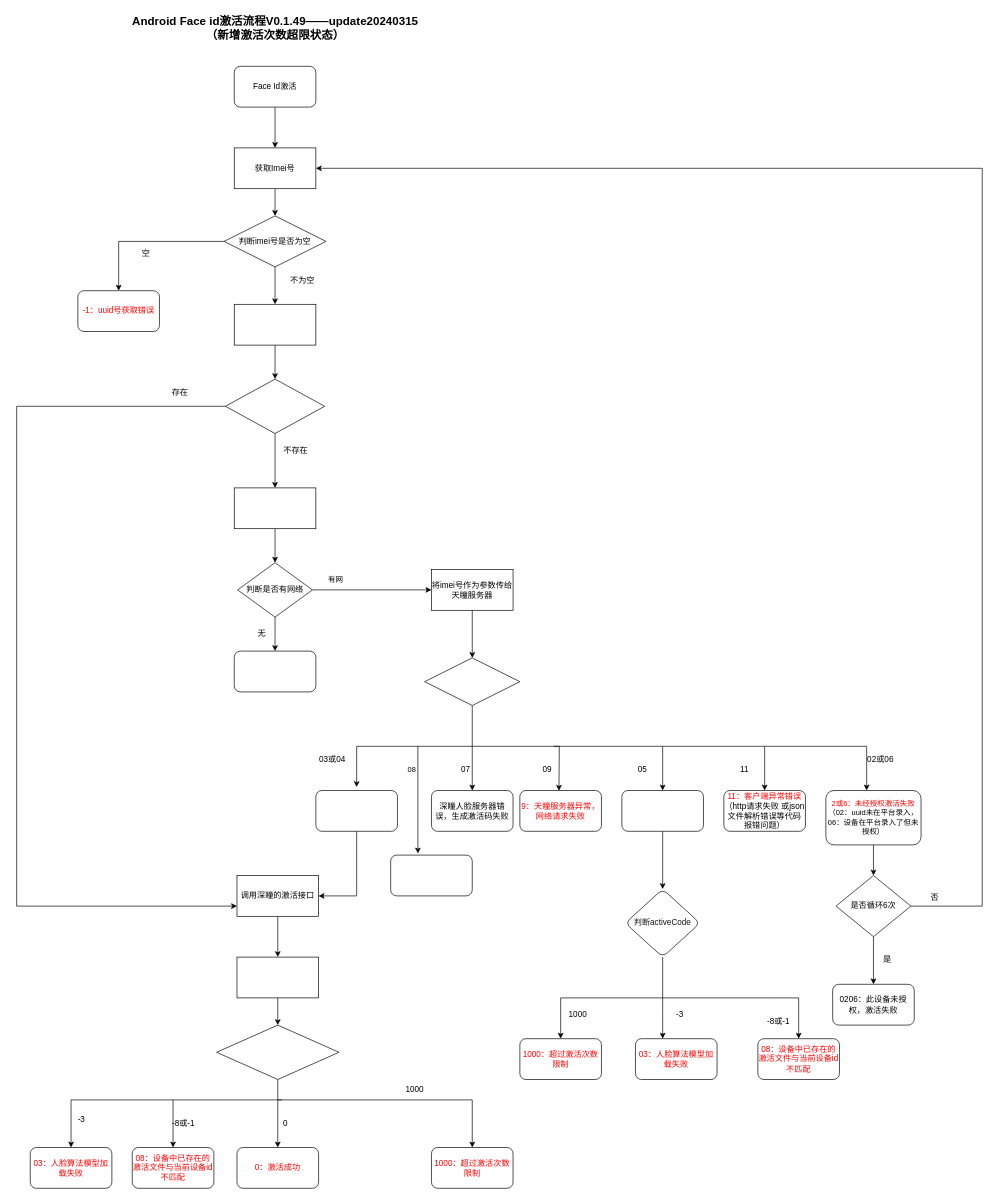
This 1000x1200 diagram has some shape labels left out. The centre of each missing label's shape, as x and y in pixels:
"05：深瞳接口激活失败，获取activeCode状态" belongs at point 662,810.
"05：网络状态不可用" belongs at point 275,671.
"判断天瞳服务器返回 的激活状态status" belongs at point 472,681.
"判断授权码是否存在" belongs at point 275,406.
"判断深瞳接口返回的 激活码状态" belongs at point 277,1052.
"激活次数超限" belongs at point 431,875.
"获取本地路径存的激活码或应用缓存数据中的授权码" belongs at point 275,324.
"获取深瞳接口返回 的授权状态" belongs at point 277,977.
"获取网络状态" belongs at point 275,508.
"获得服务器返回的人脸激活状态码(code)" belongs at point 356,810.
